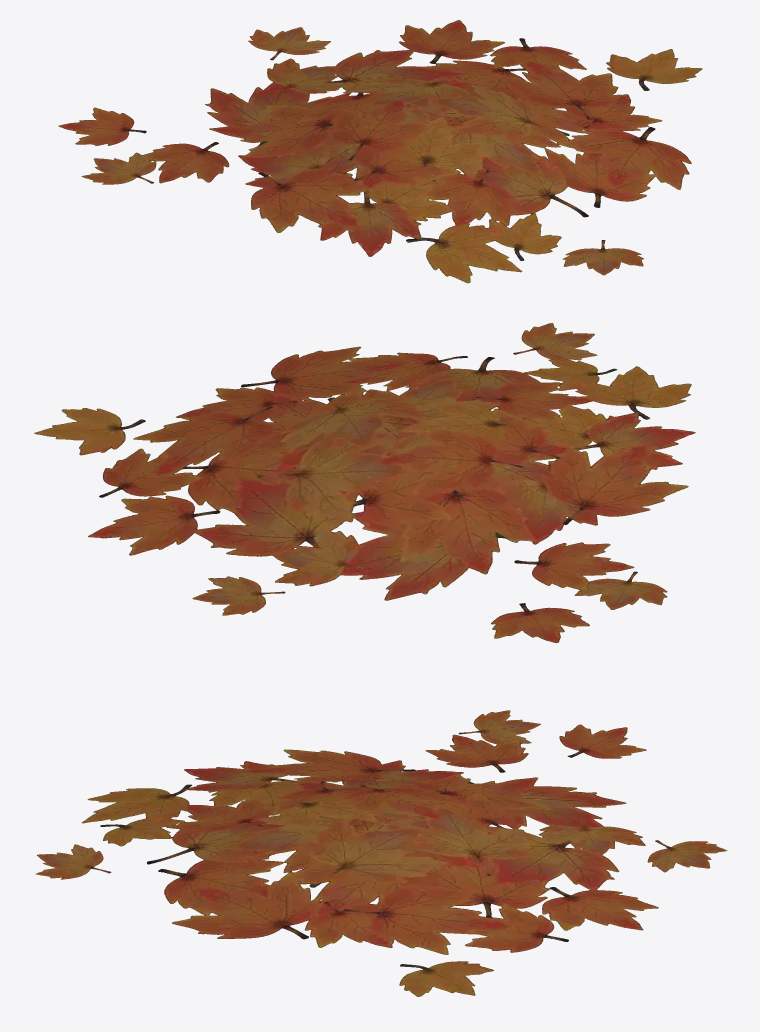
3 views of the same model, one above another, from view 1: azimuth 30°, elevation 25°; view 2: azimuth 150°, elevation 25°; view 3: azimuth 270°, elevation 25° (orthographic). The views are drawn at different scales.
Visible parts, largest first — view 1: SM_ScatteredLeaves_Maple_02_LOD0; view 2: SM_ScatteredLeaves_Maple_02_LOD0; view 3: SM_ScatteredLeaves_Maple_02_LOD0.
Boxes of the visible parts, x1,y1,x2,y2 form: SM_ScatteredLeaves_Maple_02_LOD0: [58, 20, 702, 283]; SM_ScatteredLeaves_Maple_02_LOD0: [34, 323, 695, 643]; SM_ScatteredLeaves_Maple_02_LOD0: [36, 710, 727, 996].
Size of the model in its own units: 1.58 by 0.084 by 1.53.
Materials: 1 (1 with a texture image).
